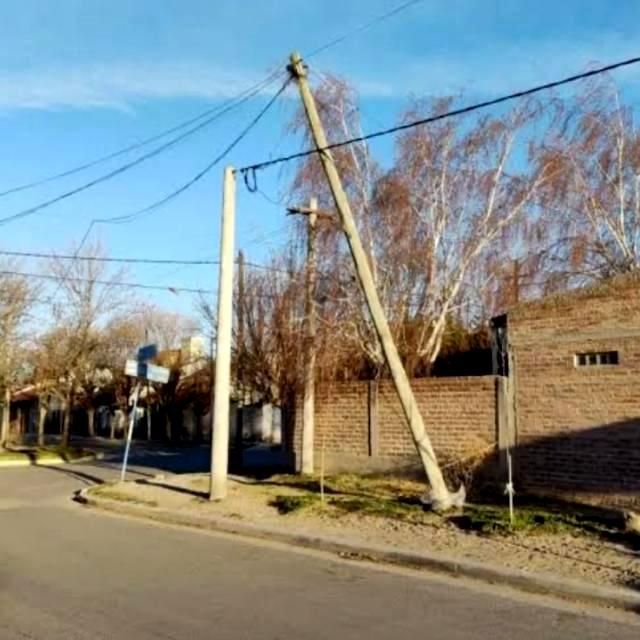Broken Pole: (285, 49, 453, 508)
